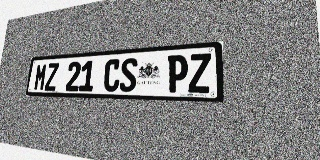1: (79, 60, 95, 91)
2: (65, 61, 81, 91)
C: (103, 59, 121, 92)
M: (33, 63, 48, 91)
P: (167, 54, 188, 93)
S: (119, 58, 138, 92)
Z: (188, 53, 211, 93), (44, 63, 59, 91)
